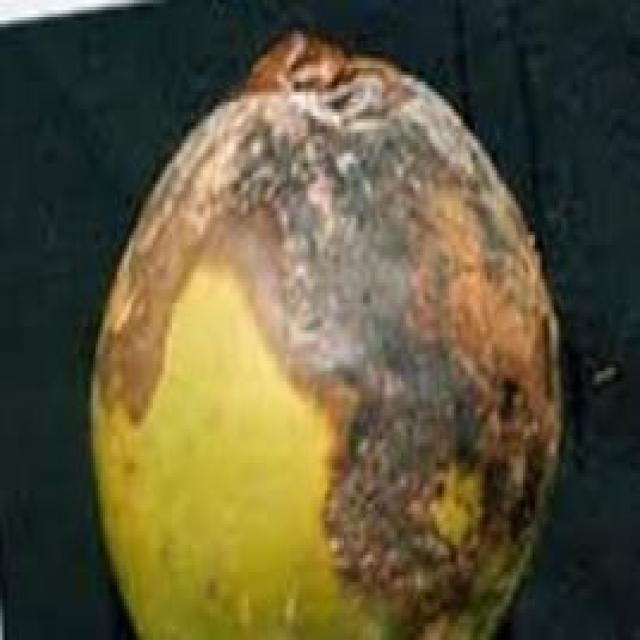damaged: (86, 27, 576, 637)
